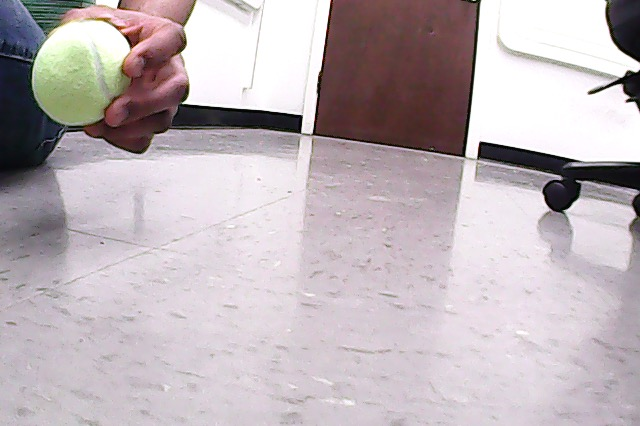ball: (32, 21, 133, 127)
